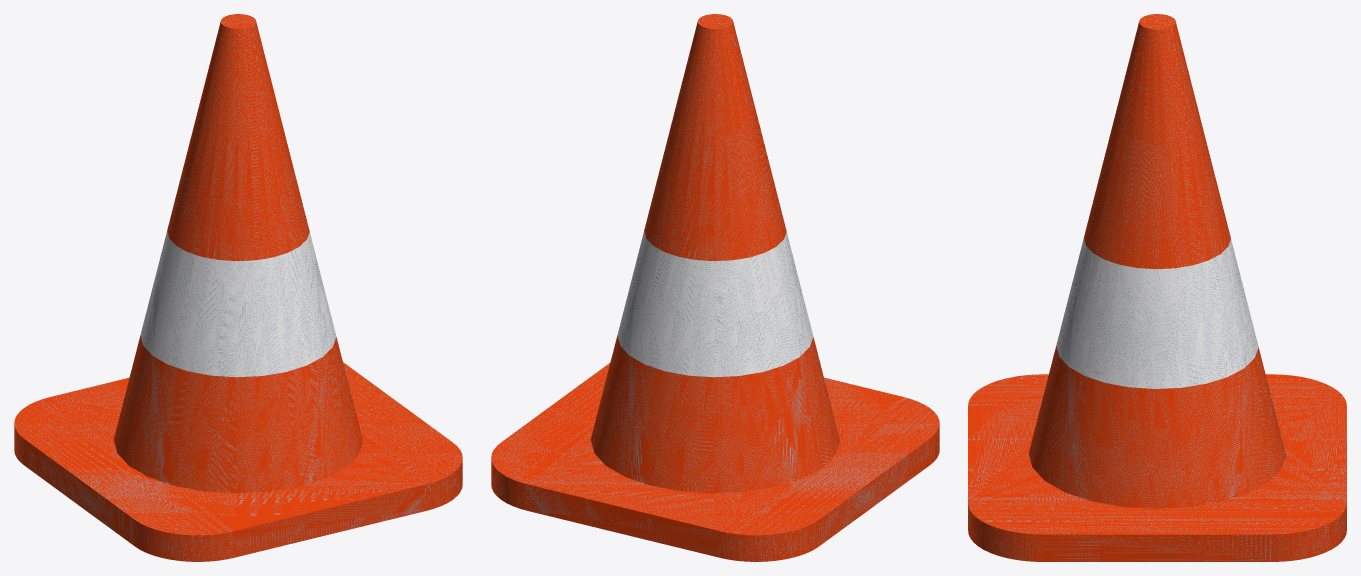
Rendered from traffic_cone.dae.
3 views of the same model, side by side, from view 1: azimuth 30°, elevation 25°; view 2: azimuth 150°, elevation 25°; view 3: azimuth 270°, elevation 25° (orthographic). The views are drawn at different scales.
Parts seen in each view (by area): view 1: Traffic_Cone (×4); view 2: Traffic_Cone (×4); view 3: Traffic_Cone (×4).
Boxes of the visible parts, x1,y1,x2,y2 form: Traffic_Cone (×4): (14, 14, 462, 561); Traffic_Cone (×4): (491, 14, 939, 561); Traffic_Cone (×4): (968, 14, 1346, 561).
Size of the model in its own units: 19.69 by 19.69 by 26.38.
